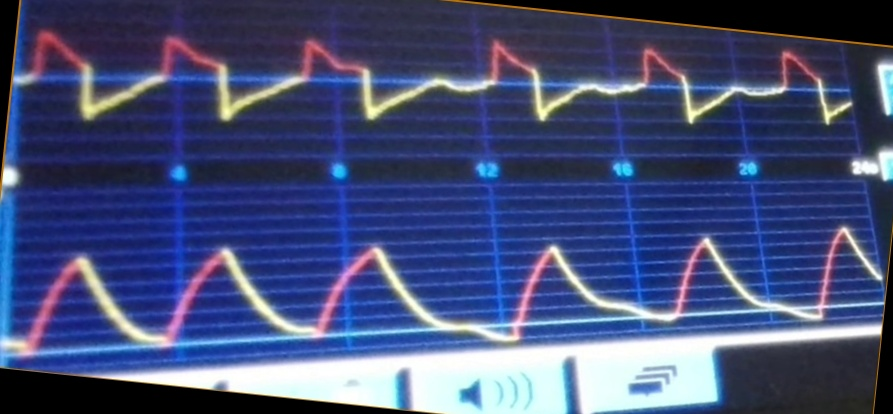Ineffective_effort Flow: (22, 22, 851, 134)
Ineffective_effort Volume: (13, 225, 879, 359)
